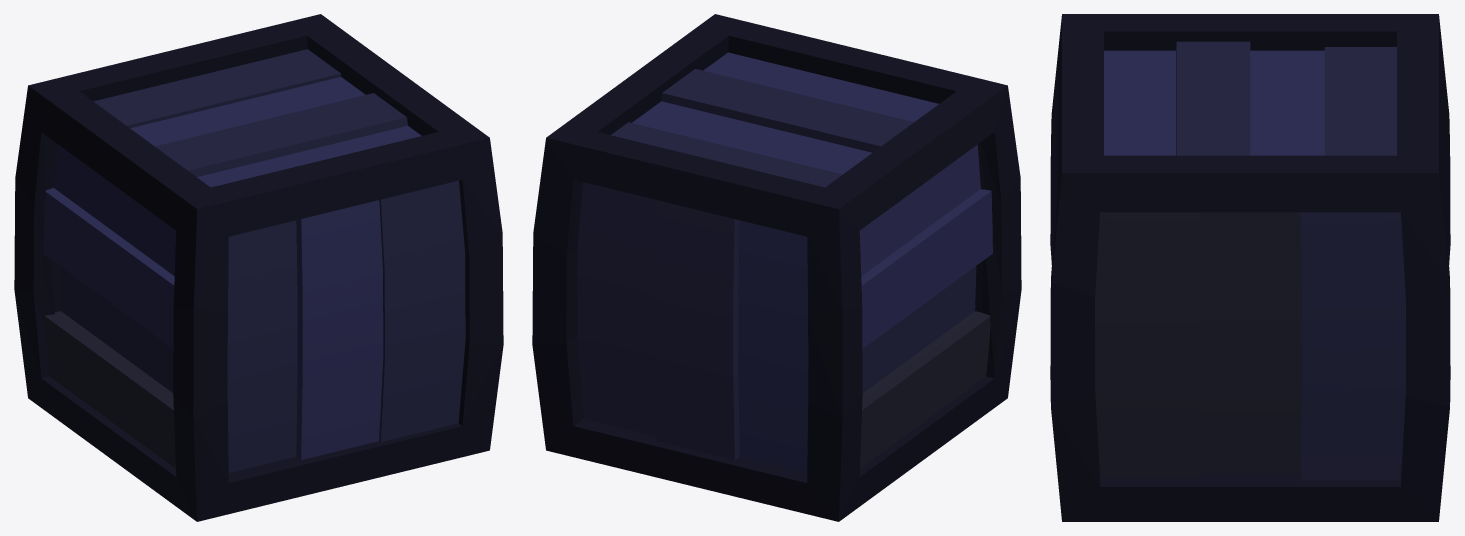
File: Crate1.fbx
3 views of the same model, side by side, from view 1: azimuth 30°, elevation 25°; view 2: azimuth 150°, elevation 25°; view 3: azimuth 270°, elevation 25° (orthographic). The views are drawn at different scales.
Parts seen in each view (by area): view 1: Box019; view 2: Box019; view 3: Box019.
Part boxes in pixels (x1,y1,x2,y2): Box019: [14, 14, 503, 521]; Box019: [532, 14, 1021, 521]; Box019: [1050, 14, 1450, 521].
Bounding box in the file's own units: 31.85 × 31.85 × 30.63.
